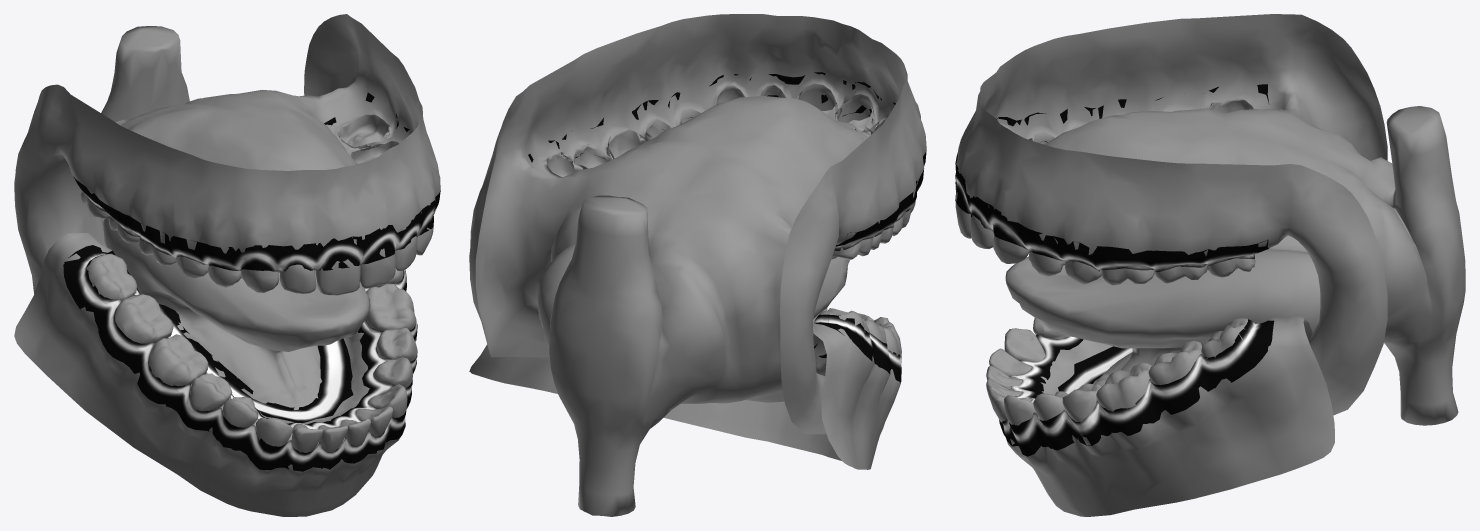
File: gums_low_tongue_out_pro_optimized.FBX
3 renders of one model, left to right at view 1: azimuth 30°, elevation 25°; view 2: azimuth 150°, elevation 25°; view 3: azimuth 270°, elevation 25°, orthographic. The views are drawn at different scales.
Parts seen in each view (by area): view 1: Gum_upper_low, Tongue_low002, Salvia_mesh_low; view 2: Gum_upper_low, Tongue_low002, Salvia_mesh_low; view 3: Gum_upper_low, Tongue_low002, Salvia_mesh_low.
Boxes of the visible parts, x1,y1,x2,y2 form: Gum_upper_low: [14, 14, 440, 295]; Tongue_low002: [14, 218, 417, 516]; Salvia_mesh_low: [63, 92, 440, 471]; Gum_upper_low: [469, 14, 926, 516]; Tongue_low002: [469, 257, 901, 469]; Salvia_mesh_low: [528, 72, 926, 382]; Gum_upper_low: [955, 14, 1465, 425]; Tongue_low002: [986, 235, 1334, 516]; Salvia_mesh_low: [955, 84, 1274, 456].
Size of the model in its own units: 74.96 by 77.48 by 88.46.
